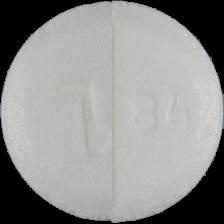0603-5335: (0, 0, 224, 224)
